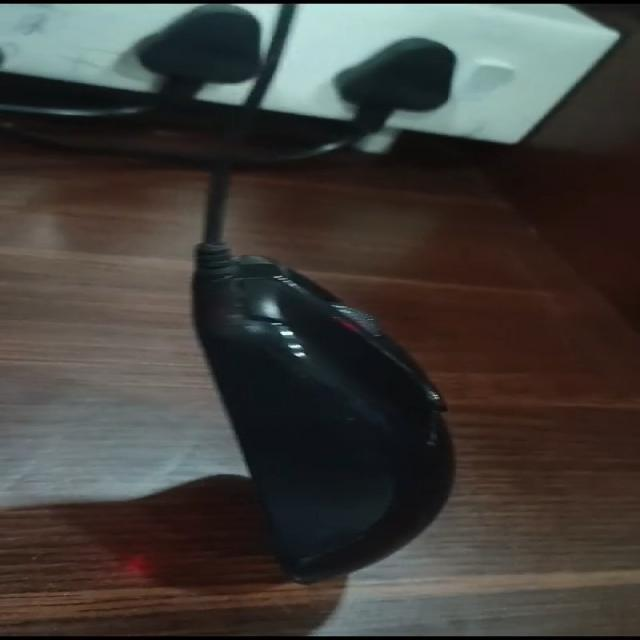mouse: (160, 210, 524, 582)
